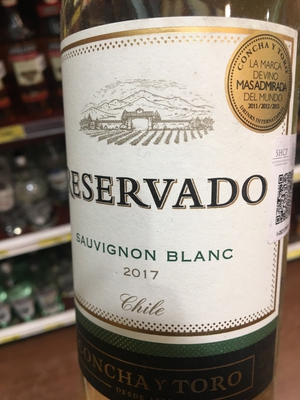reservado sauvignon blanc: (57, 5, 294, 400)
